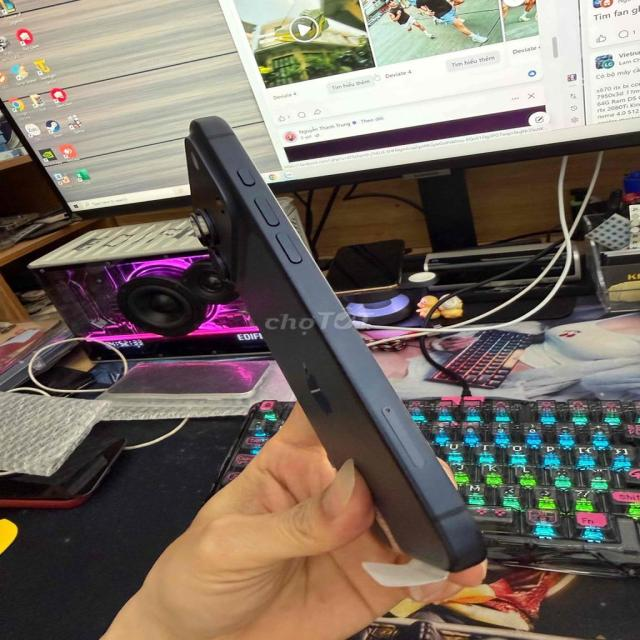gen_17: (185, 116, 486, 579)
